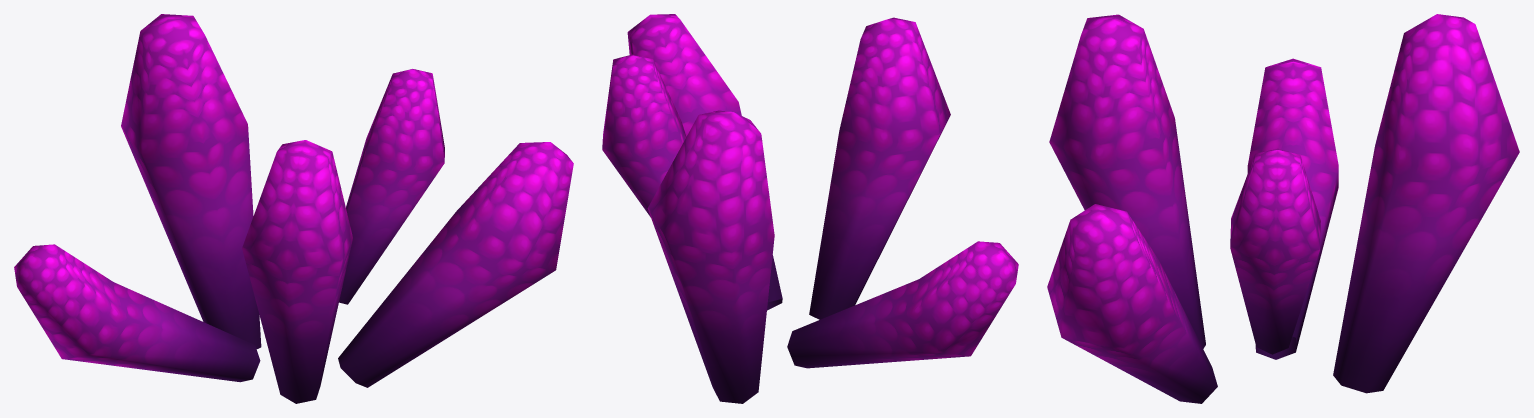
File: Coral_10a.FBX
3 views of the same model, side by side, from view 1: azimuth 30°, elevation 25°; view 2: azimuth 150°, elevation 25°; view 3: azimuth 270°, elevation 25° (orthographic). The views are drawn at different scales.
Visible parts, largest first — view 1: Coral_10a; view 2: Coral_10a; view 3: Coral_10a.
Boxes of the visible parts, x1,y1,x2,y2 form: Coral_10a: (14,14,573,403); Coral_10a: (602,14,1018,403); Coral_10a: (1047,14,1519,403).
Bounding box in the file's own units: 26.74 × 17.21 × 20.66.
